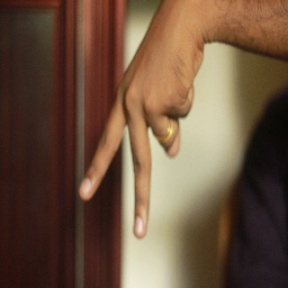Y: (78, 67, 190, 239)
